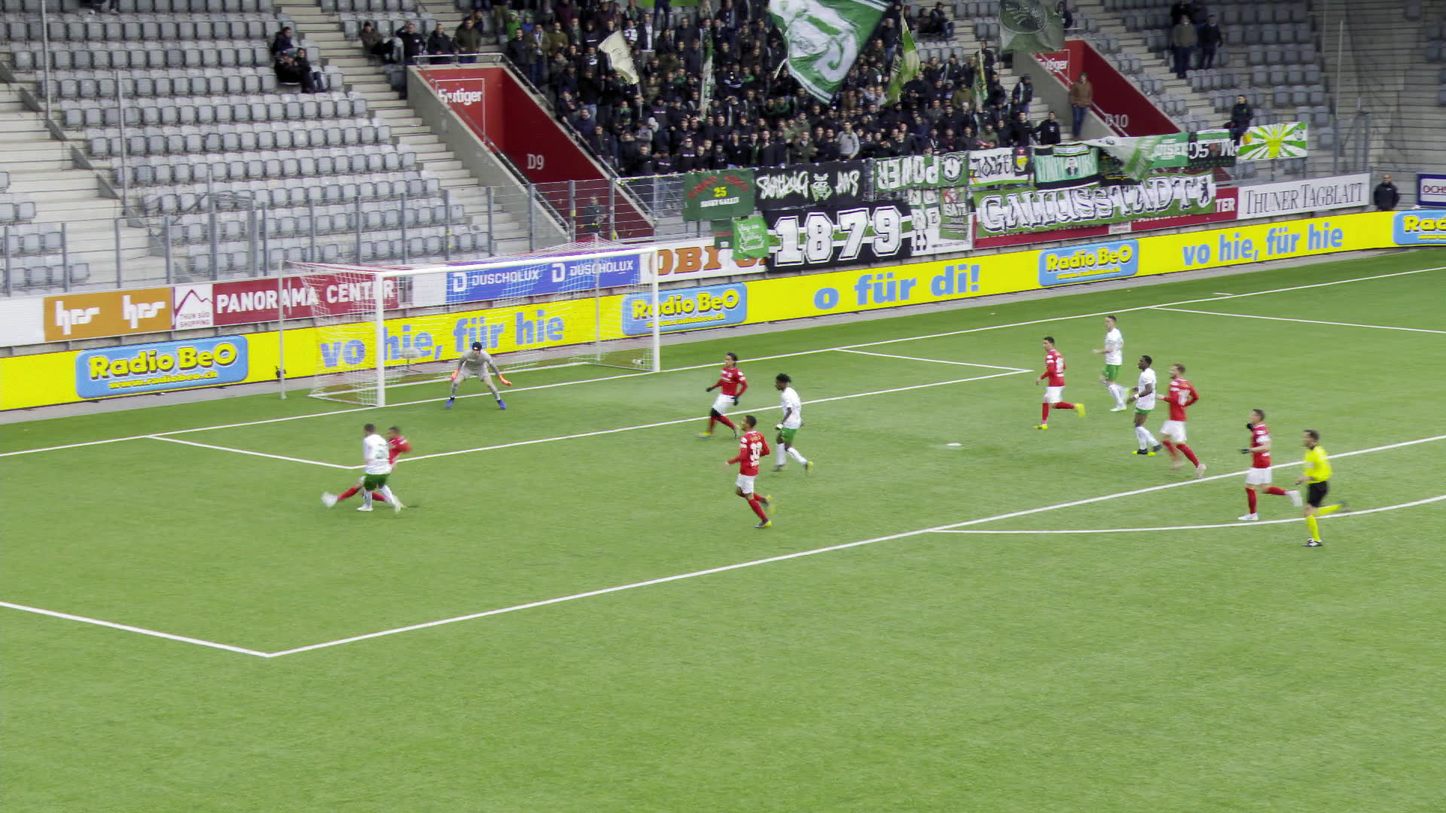ball: (355, 472, 377, 492)
player: (1228, 404, 1315, 525), (327, 421, 417, 513), (727, 413, 792, 528), (1022, 330, 1090, 434), (1153, 363, 1212, 482), (339, 419, 401, 516), (1119, 349, 1173, 458), (435, 340, 511, 416), (766, 371, 817, 484), (1088, 315, 1145, 416), (702, 350, 753, 446)
referee: (1281, 421, 1370, 548)
